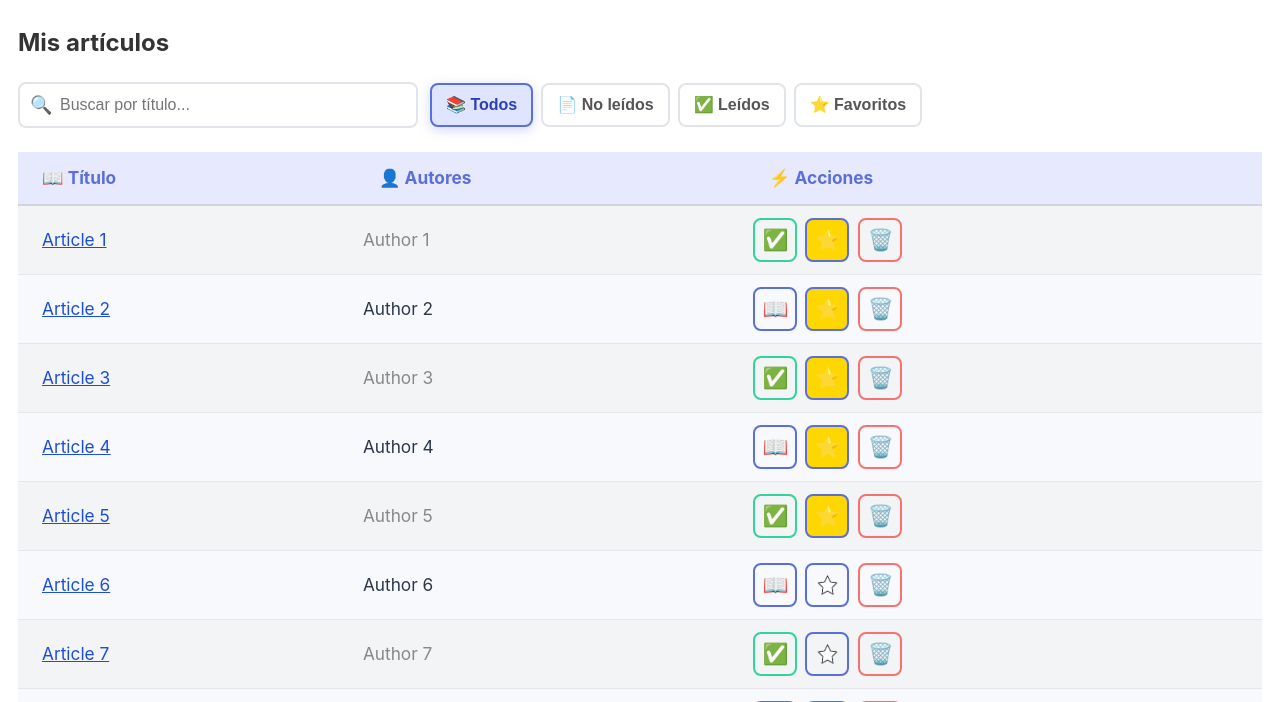
Scenario: ArticleTable - Paginación › calcula el total efectivo correctamente con filtros activos
Expected: the link titled "Article 1" is shown, [42,229,106,250]
Activar filtro de favoritos
Click the button "⭐ Favoritos" at (858, 105), box [794,83,922,127]
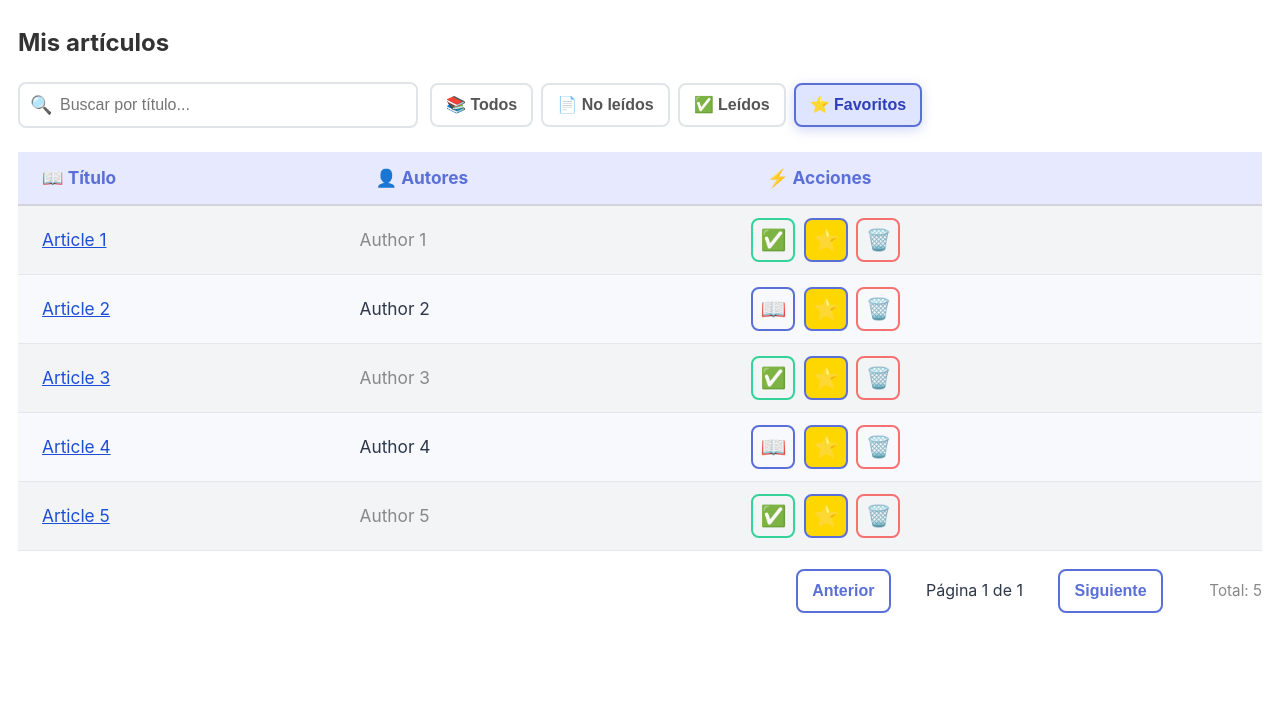
Expected: the text "Total: 5" is shown, [1209,579,1262,603]
